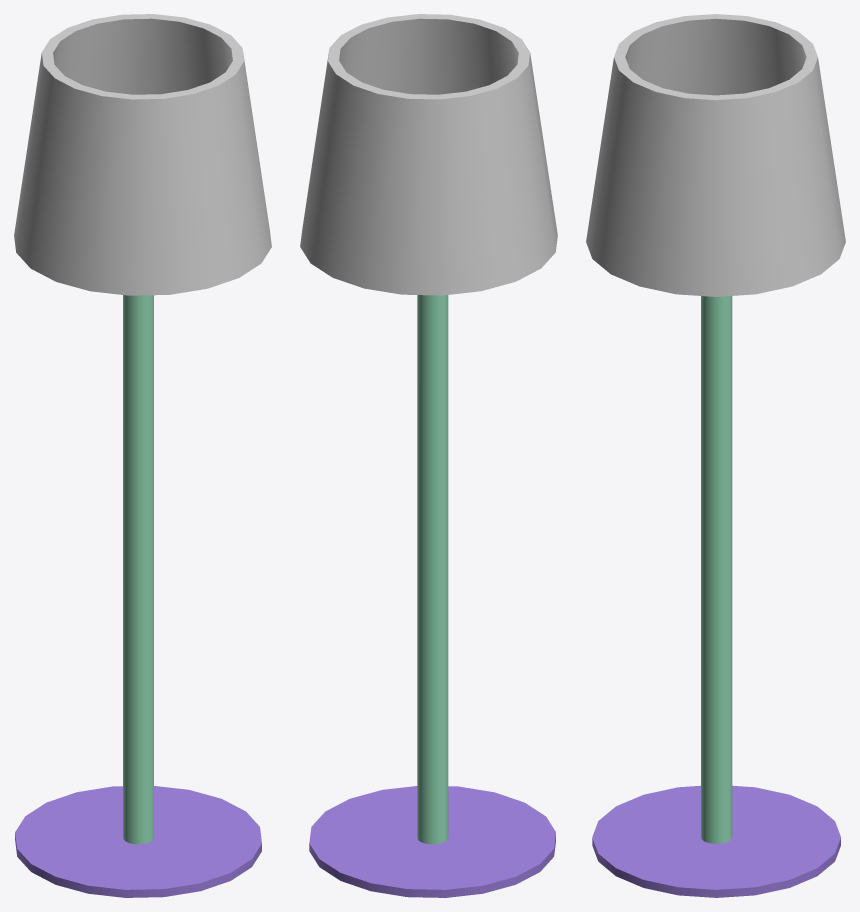
File: lampe.fbx
3 renders of one model, left to right at view 1: azimuth 30°, elevation 25°; view 2: azimuth 150°, elevation 25°; view 3: azimuth 270°, elevation 25°, orthographic.
Parts seen in each view (by area): view 1: pCylinder4; view 2: pCylinder4; view 3: pCylinder4.
Boxes of the visible parts, left/top/right/bottom form: pCylinder4: left=14, top=14, right=271, bottom=897; pCylinder4: left=300, top=14, right=557, bottom=897; pCylinder4: left=586, top=14, right=845, bottom=897.
Bounding box in the file's own units: 51.48 × 173 × 51.48.
